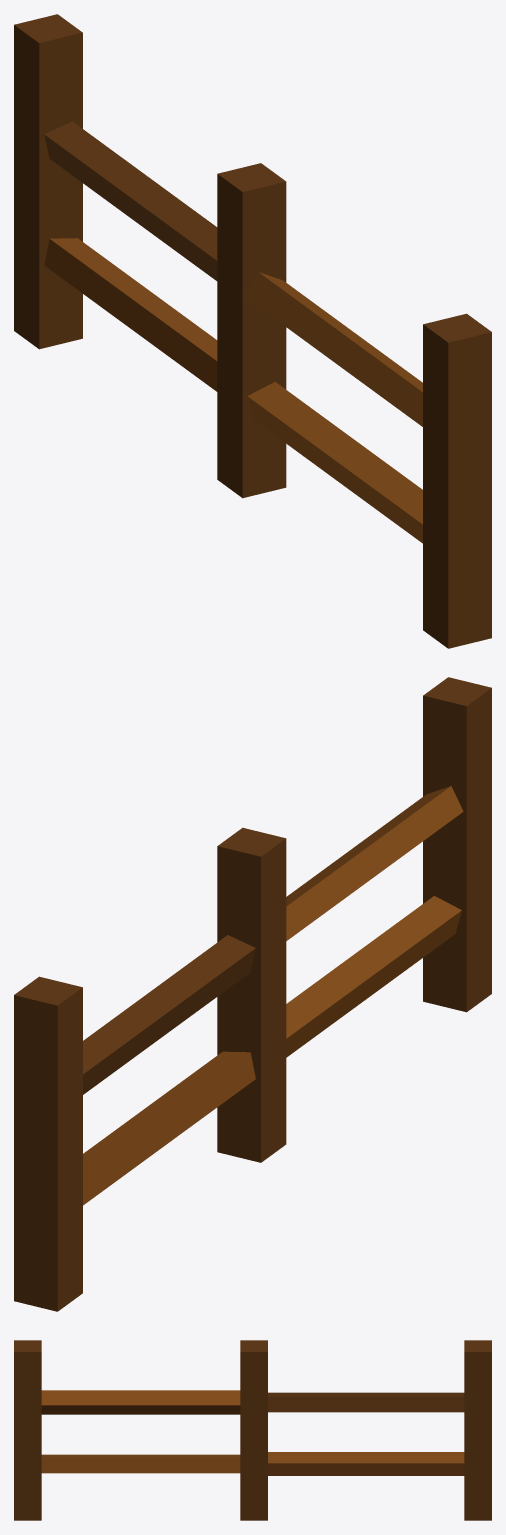
Rendered from Fence.fbx.
3 views of the same model, one above another, from view 1: azimuth 30°, elevation 25°; view 2: azimuth 150°, elevation 25°; view 3: azimuth 270°, elevation 25° (orthographic). The views are drawn at different scales.
Parts seen in each view (by area): view 1: Cube.001, Cube.002, Cube, Cube.004, Cube.006, Cube.005, Cube.003; view 2: Cube, Cube.002, Cube.001, Cube.004, Cube.006, Cube.005, Cube.003; view 3: Cube, Cube.001, Cube.002, Cube.003, Cube.005, Cube.006, Cube.004.
Part boxes in pixels (left/top/right/bottom): Cube.001: left=423, top=313, right=491, bottom=648; Cube.002: left=217, top=163, right=286, bottom=498; Cube: left=14, top=14, right=82, bottom=349; Cube.004: left=247, top=382, right=422, bottom=543; Cube.006: left=44, top=121, right=217, bottom=280; Cube.005: left=44, top=238, right=217, bottom=391; Cube.003: left=246, top=272, right=422, bottom=426; Cube: left=14, top=976, right=82, bottom=1311; Cube.002: left=217, top=827, right=286, bottom=1162; Cube.001: left=423, top=677, right=491, bottom=1012; Cube.004: left=286, top=896, right=461, bottom=1057; Cube.006: left=83, top=935, right=255, bottom=1094; Cube.005: left=83, top=1051, right=255, bottom=1205; Cube.003: left=286, top=786, right=463, bottom=940; Cube: left=464, top=1340, right=491, bottom=1520; Cube.001: left=14, top=1340, right=41, bottom=1520; Cube.002: left=240, top=1340, right=267, bottom=1520; Cube.003: left=41, top=1390, right=240, bottom=1414; Cube.005: left=268, top=1452, right=464, bottom=1475; Cube.006: left=268, top=1392, right=464, bottom=1412; Cube.004: left=41, top=1454, right=240, bottom=1473.
Bounding box in the file's own units: 60 × 402 × 1034.
